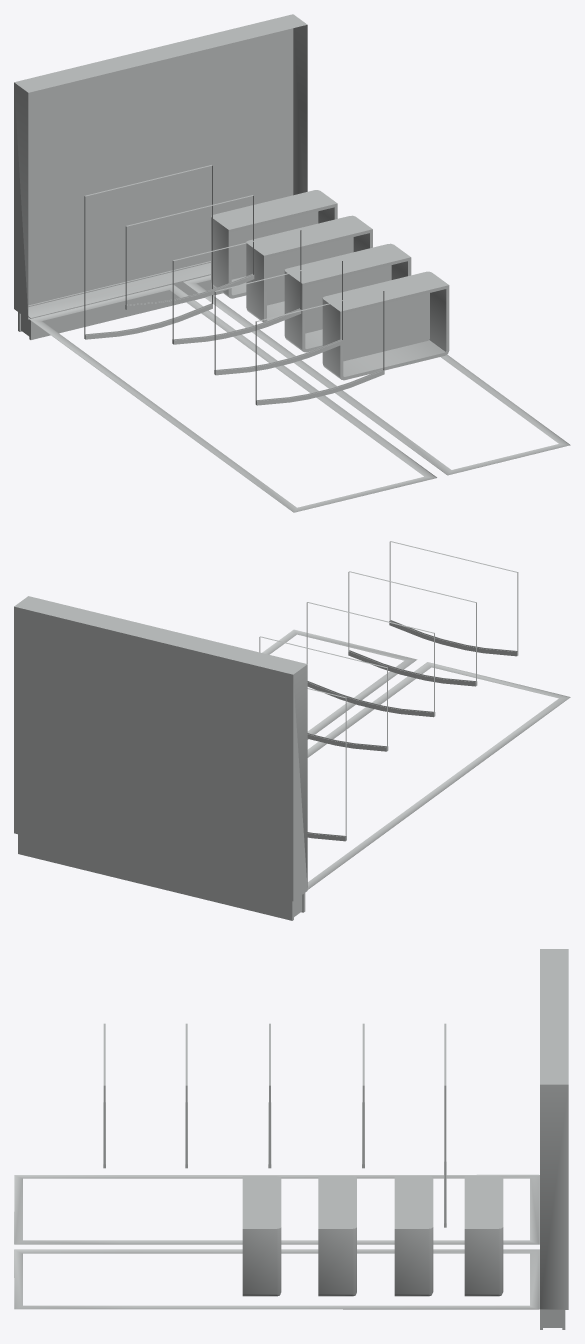
Rendered from FridgebodymeshFridgeD3_0_GeomSubset_1.obj.
3 views of the same model, one above another, from view 1: azimuth 30°, elevation 25°; view 2: azimuth 150°, elevation 25°; view 3: azimuth 270°, elevation 25° (orthographic).
Parts seen in each view (by area): view 1: FridgebodymeshFridgeD3_0_GeomSubset_1; view 2: FridgebodymeshFridgeD3_0_GeomSubset_1; view 3: FridgebodymeshFridgeD3_0_GeomSubset_1.
Boxes of the visible parts, box(x1,y1,x2,y2) form: FridgebodymeshFridgeD3_0_GeomSubset_1: box(14, 14, 570, 512); FridgebodymeshFridgeD3_0_GeomSubset_1: box(14, 541, 570, 920); FridgebodymeshFridgeD3_0_GeomSubset_1: box(14, 949, 568, 1329).
Bounding box in the file's own units: 0.8777 × 0.7449 × 1.53.
